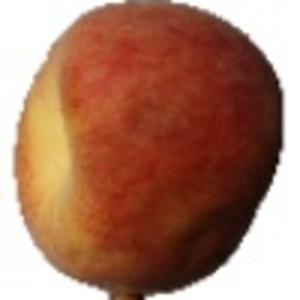pêssego: (10, 1, 286, 300)
